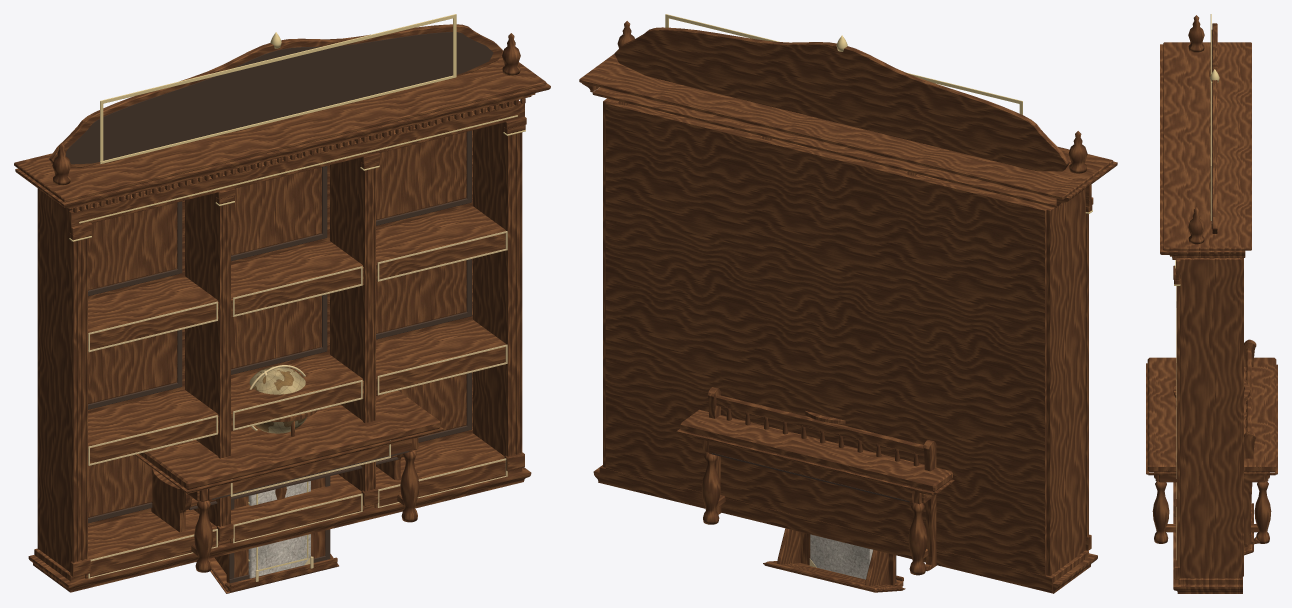
The model's file is library-set.glb.
3 views of the same model, side by side, from view 1: azimuth 30°, elevation 25°; view 2: azimuth 150°, elevation 25°; view 3: azimuth 270°, elevation 25° (orthographic). The views are drawn at different scales.
Parts seen in each view (by area): view 1: LibBookcase_walnut, LibBookcase_ebony, LibTable_walnut, LibBookcase_brass, LibBookcase_gilt, LibLectern_walnut, LibBook_leather, LibBench_walnut, LibGlobe_globe; view 2: LibBookcase_walnut, LibTable_walnut, LibBench_walnut, LibLectern_walnut, LibBook_leather, LibBookcase_gilt; view 3: LibBookcase_walnut, LibTable_walnut, LibBench_walnut, LibBookcase_gilt, LibBookcase_ebony, LibBookcase_brass.
Boxes of the visible parts, x1,y1,x2,y2 form: LibBookcase_walnut: (14,24,550,592); LibBookcase_ebony: (65,32,493,523); LibTable_walnut: (135,390,444,572); LibBookcase_brass: (88,231,507,578); LibBookcase_gilt: (69,14,525,241); LibLectern_walnut: (209,477,338,593); LibBook_leather: (248,481,310,578); LibBench_walnut: (151,453,403,532); LibGlobe_globe: (249,366,306,433); LibBookcase_walnut: (579,21,1117,593); LibTable_walnut: (676,409,954,575); LibBench_walnut: (707,387,936,571); LibLectern_walnut: (763,528,905,592); LibBook_leather: (810,534,872,579); LibBookcase_gilt: (665,14,1092,213); LibBookcase_walnut: (1160,15,1251,593); LibTable_walnut: (1146,357,1277,543); LibBench_walnut: (1244,339,1259,544); LibBookcase_gilt: (1174,14,1219,285); LibBookcase_ebony: (1211,30,1212,228); LibBookcase_brass: (1176,286,1176,559).
Size of the model in its own units: 4.44 by 4.75 by 1.19.
9 materials, 4 textured.
